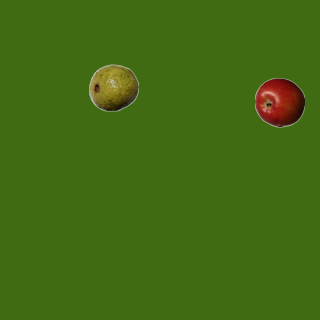Apple Braeburn: (254, 77, 304, 127)
Guava: (88, 62, 138, 112)
